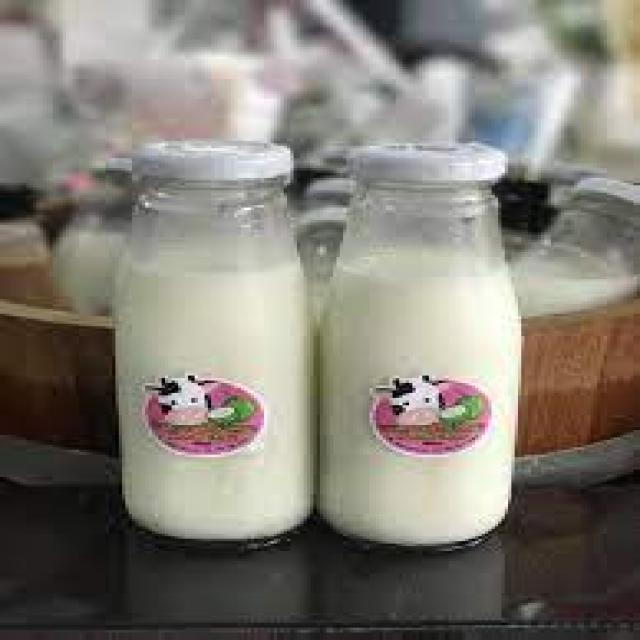glass-bottle: (77, 127, 546, 567)
